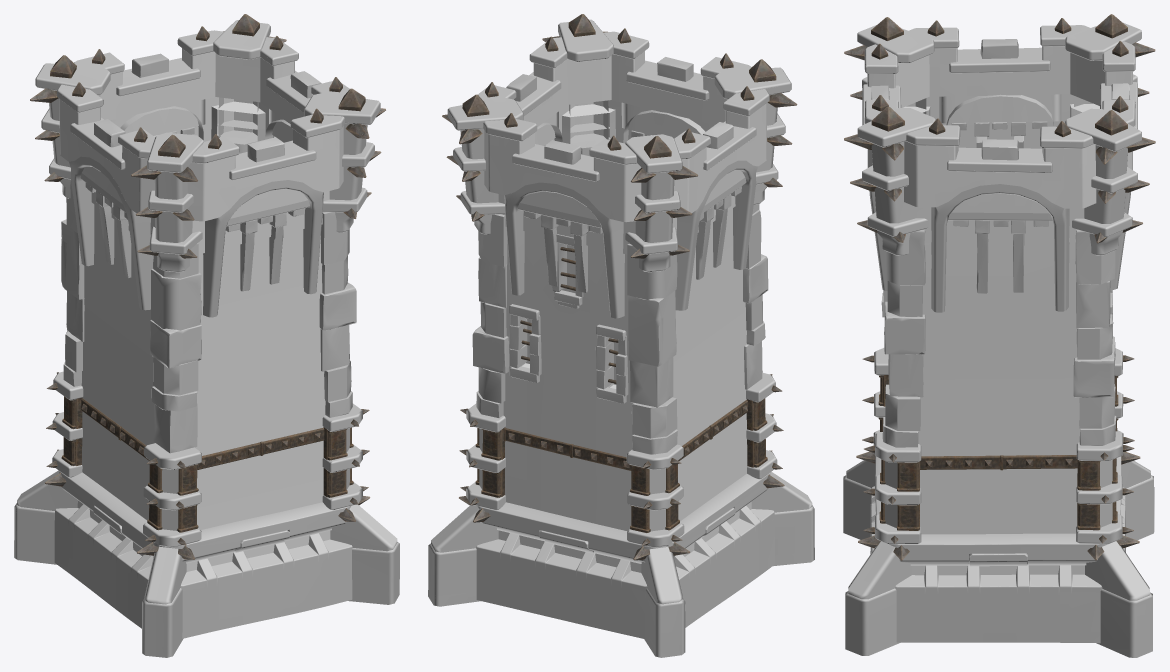
The picture shows the model from 3 angles, left to right: view 1: azimuth 30°, elevation 25°; view 2: azimuth 150°, elevation 25°; view 3: azimuth 270°, elevation 25°; orthographic projection. The views are drawn at different scales.
Visible parts, largest first — view 1: SM_DR_Gateway_Sides_Lower_LOD0; view 2: SM_DR_Gateway_Sides_Lower_LOD0; view 3: SM_DR_Gateway_Sides_Lower_LOD0.
Boxes of the visible parts, x1,y1,x2,y2 form: SM_DR_Gateway_Sides_Lower_LOD0: (14,14,399,657); SM_DR_Gateway_Sides_Lower_LOD0: (428,14,814,657); SM_DR_Gateway_Sides_Lower_LOD0: (843,14,1155,657).
Bounding box in the file's own units: 8.75 × 16.45 × 8.75.
